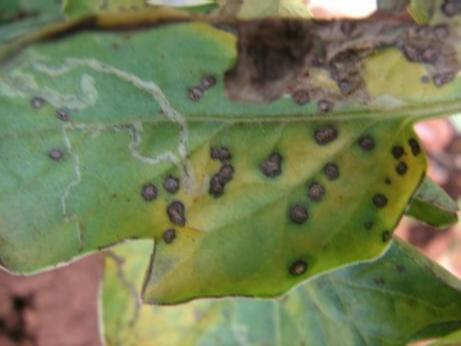Tomato Septoria leaf spot: (4, 27, 429, 310)
